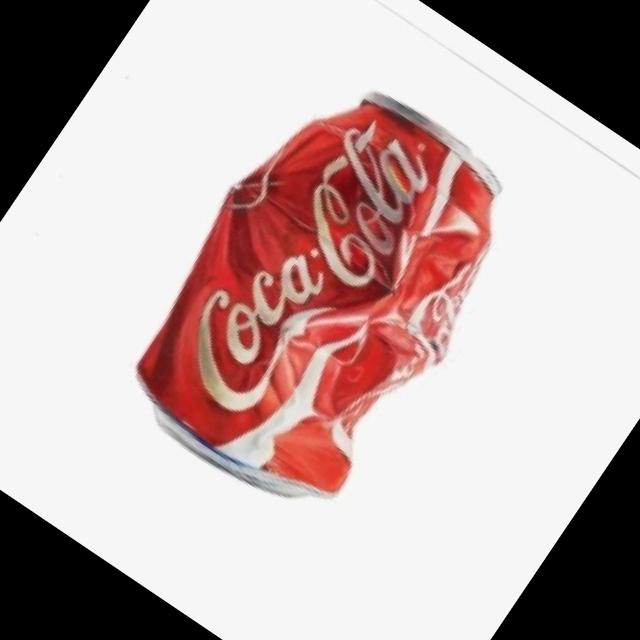Kaleng: (95, 46, 551, 538)
